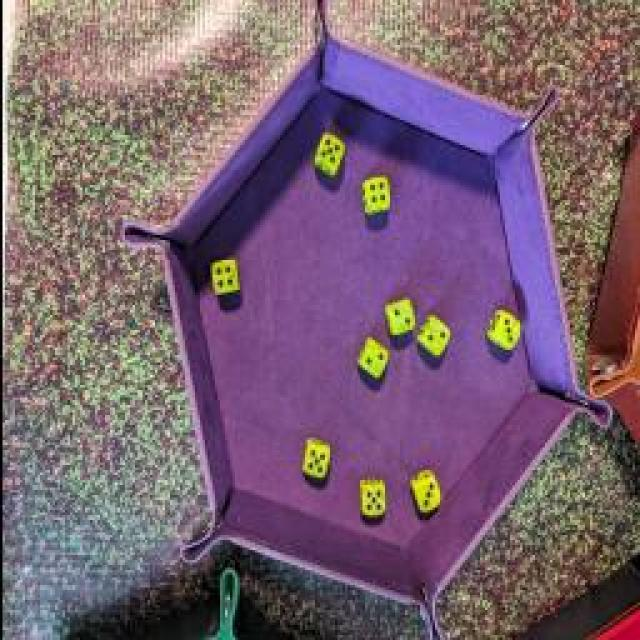dice_2: (356, 332, 392, 386), (379, 292, 416, 340), (418, 315, 452, 365)
dice_3: (480, 308, 525, 352), (406, 463, 442, 515)
dice_4: (356, 171, 392, 219), (204, 254, 238, 301)
dice_5: (308, 125, 348, 180), (296, 429, 332, 486), (353, 472, 385, 522)
